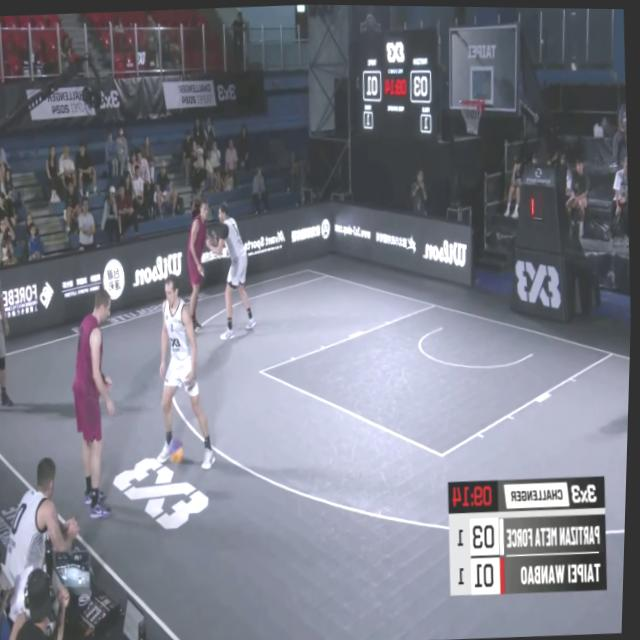ball: (168, 436, 189, 467)
hoop: (458, 94, 487, 136)
player: (65, 278, 135, 518), (154, 265, 224, 475), (210, 199, 263, 341), (184, 197, 219, 334)
